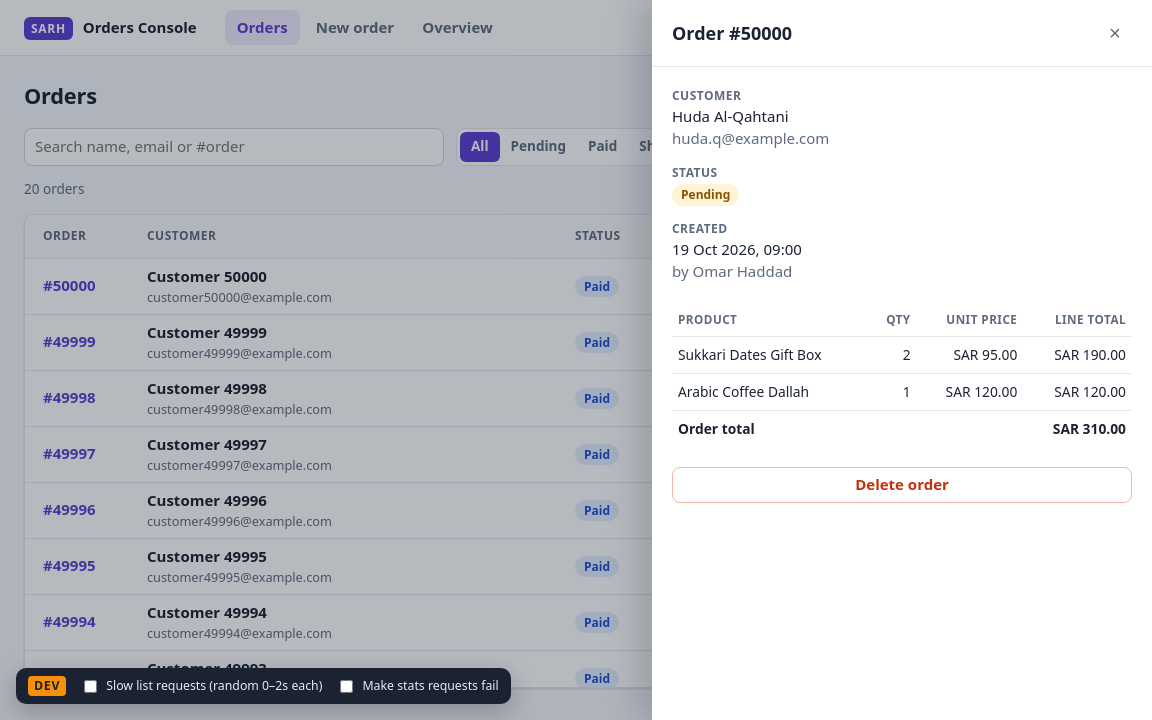
Test: OrdersPage › lets an admin delete an order after confirming
The width and height of the screenshot is (1152, 720).
Click the button "Delete order" at coordinates (902, 484), box [672,466,1132,502]
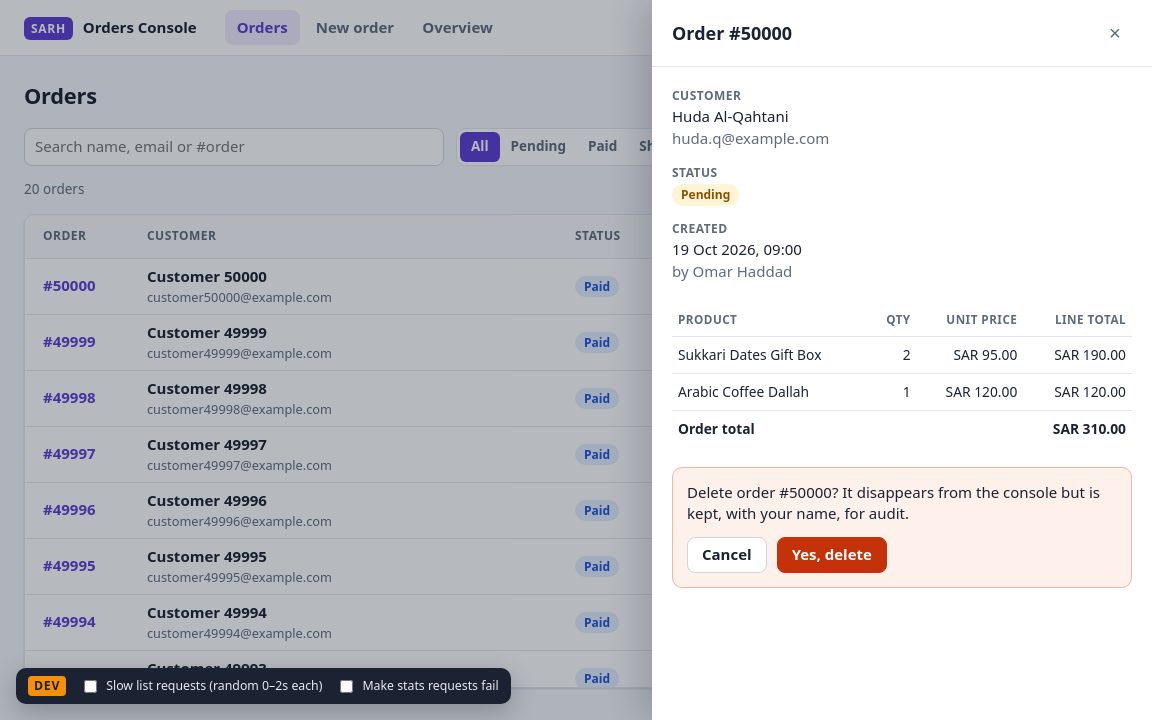
Click the button "Yes, delete" at coordinates (832, 555), box [777,537,887,573]
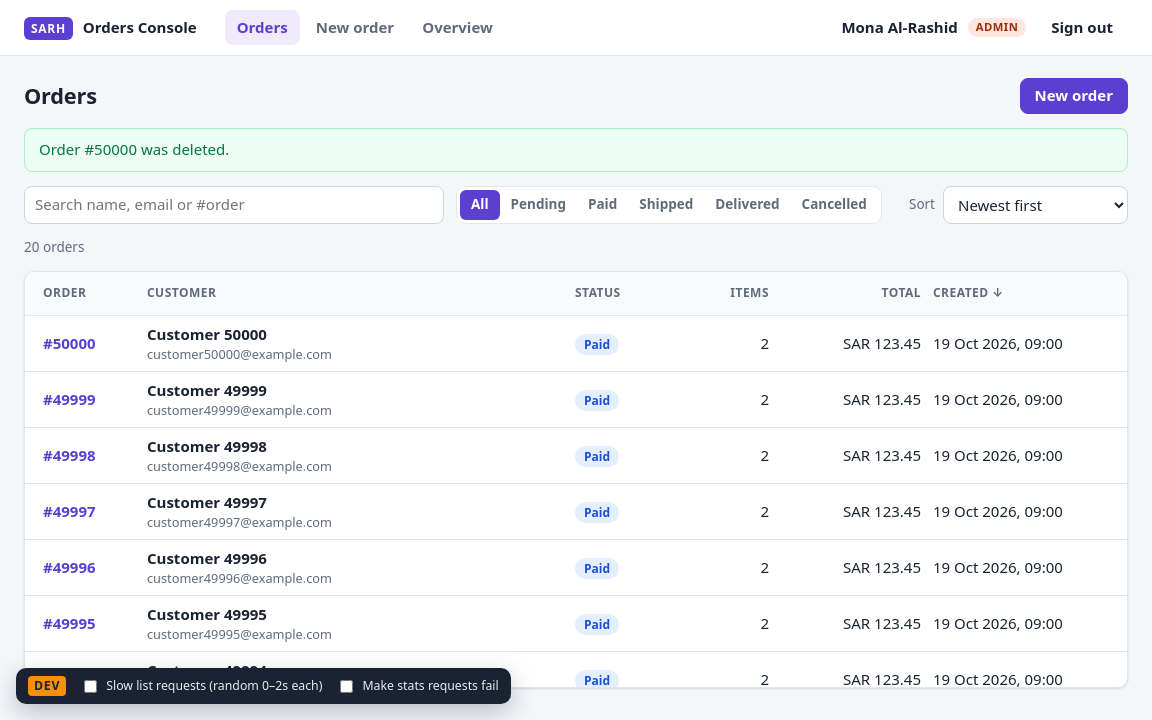
expect the text "Order #50000 was deleted." is shown: met, box [24,128,1128,172]
expect the dialog is gone: met
Type "x" into the search field at coordinates (234, 205), box [24,186,444,224]
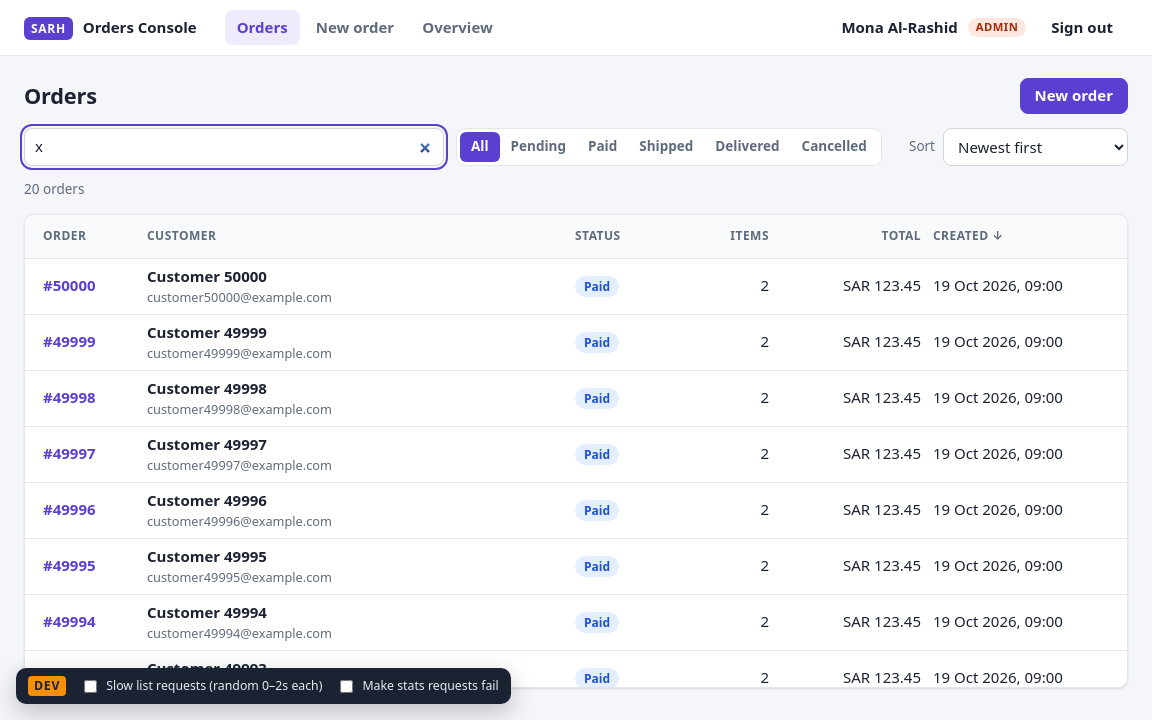
expect the text "Order #50000 was deleted." is gone: met
